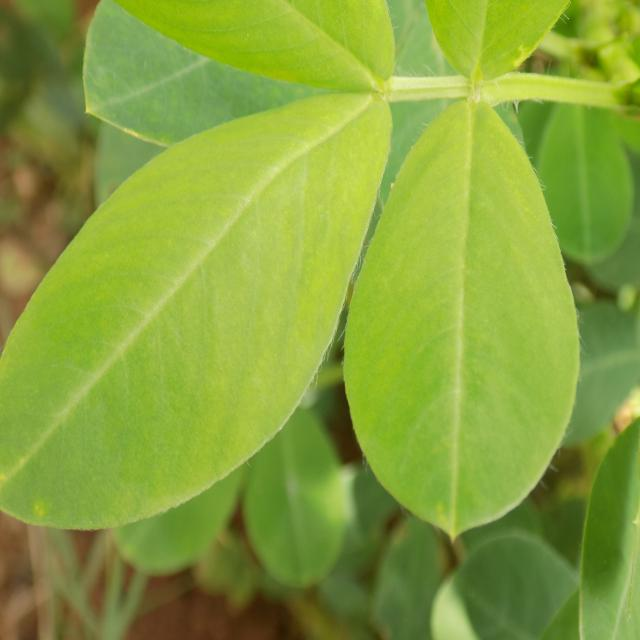Ground nut_healthy: (0, 95, 388, 531), (340, 90, 576, 543)
